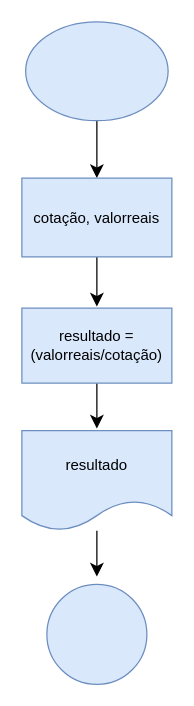
The diagram is 194 pixels wide and 706 high, and some of its shapes have lost their labels. Each missing label, with the box of its shape:
Fim: (46, 583, 147, 684)
Início: (24, 21, 168, 121)
